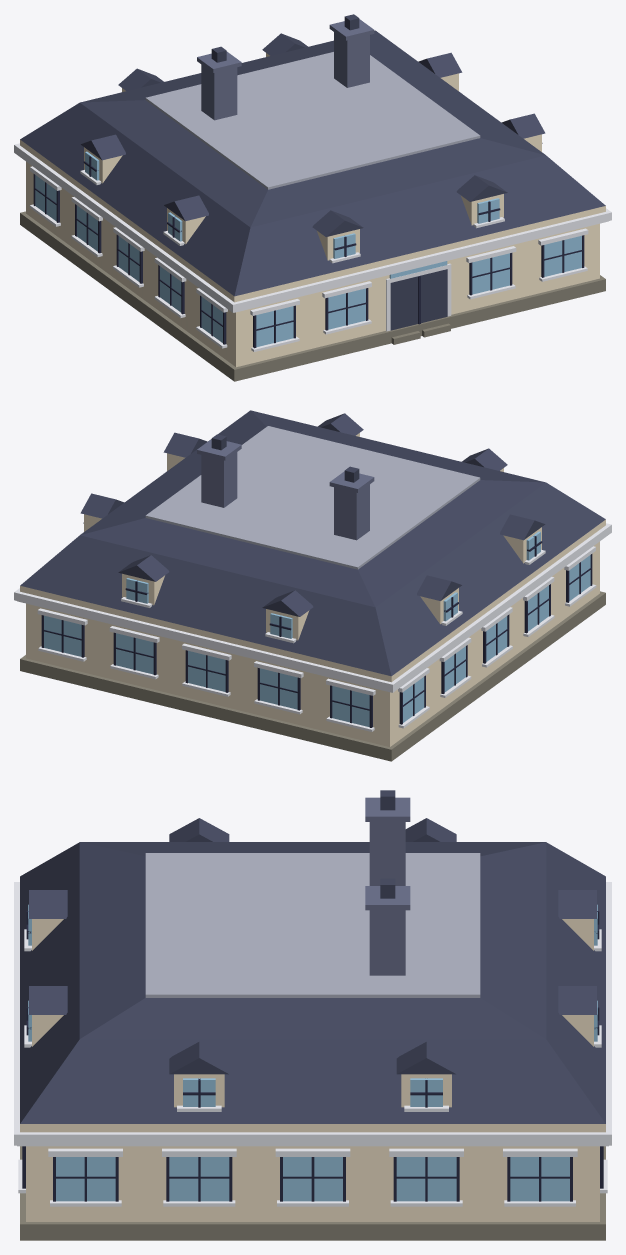
The model's file is house-2x2-1f-haussmann-a.glb.
3 renders of one model, top to bottom at view 1: azimuth 30°, elevation 25°; view 2: azimuth 150°, elevation 25°; view 3: azimuth 270°, elevation 25°, orthographic. The views are drawn at different scales.
Visible parts, largest first — view 1: house-2x2-1f-haussmann-a; view 2: house-2x2-1f-haussmann-a; view 3: house-2x2-1f-haussmann-a.
Part boxes in pixels (x1,y1,x2,y2): house-2x2-1f-haussmann-a: [14, 14, 611, 381]; house-2x2-1f-haussmann-a: [14, 410, 611, 761]; house-2x2-1f-haussmann-a: [14, 790, 611, 1240].
Size of the model in its own units: 2 by 1.03 by 2.
1 material, 1 textured.
